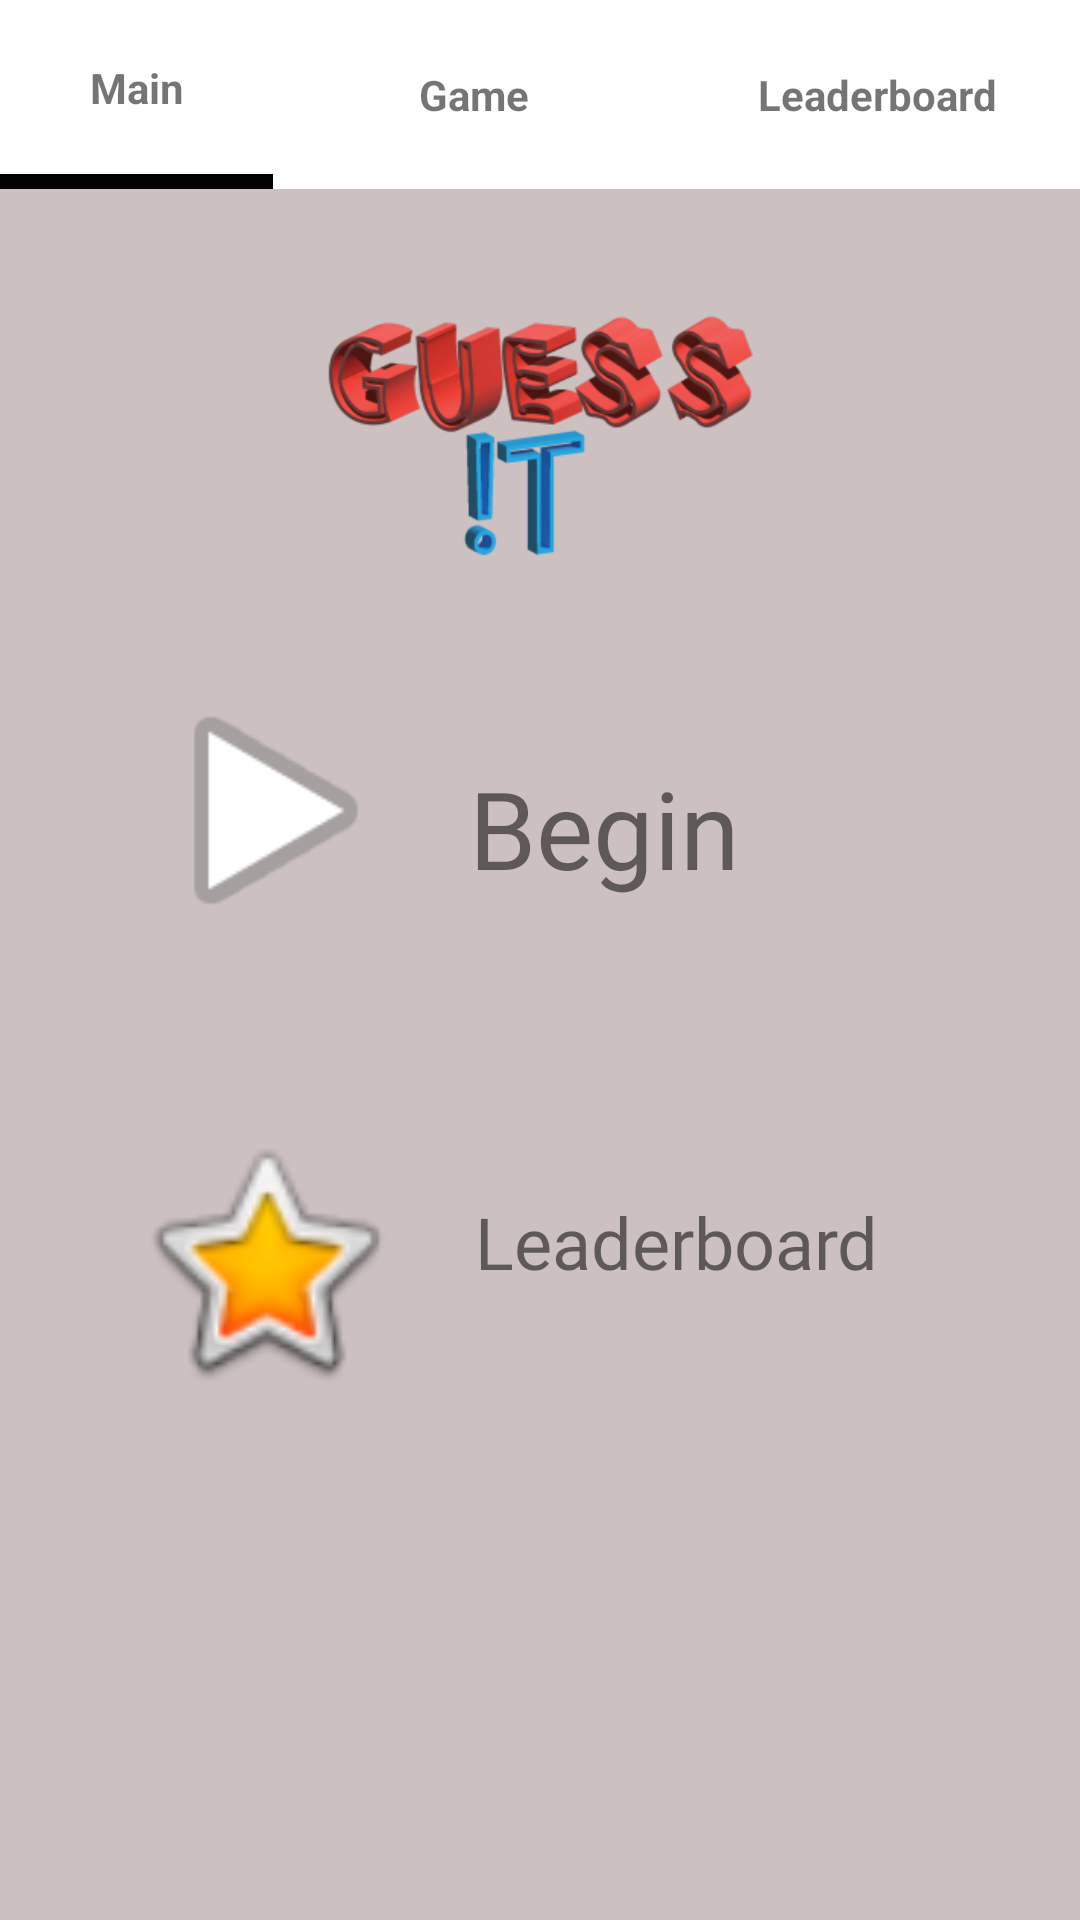

Named icons in this screenshot (1080w x 1920h) and their centers, (x,y):
play: (276,810)
